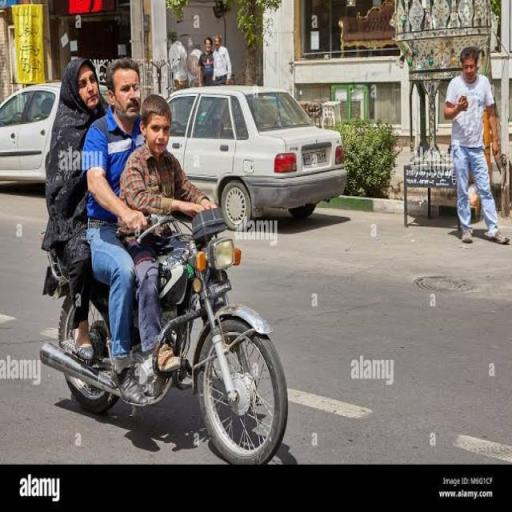bike: (29, 195, 301, 464)
tripple riding: (38, 40, 292, 462)
